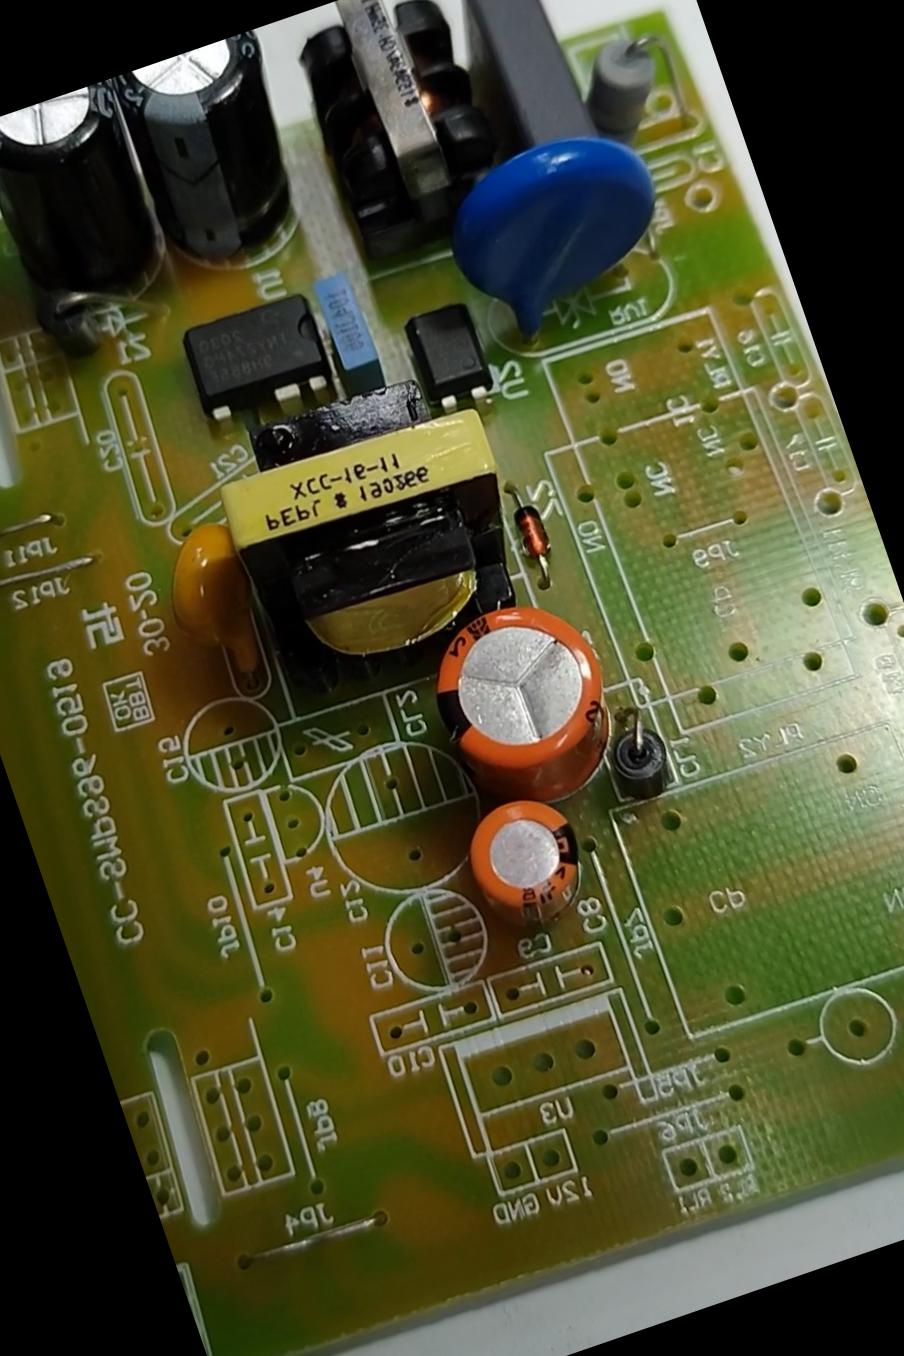Cap1: (394, 571, 650, 837)
Cap2: (436, 775, 620, 965)
Cap3: (98, 27, 339, 305)
Cap4: (0, 75, 204, 365)
MOSFET: (160, 276, 354, 451)
Mov: (402, 97, 709, 391)
Resistor: (555, 7, 695, 167)
Transformer: (194, 390, 576, 749), (281, 0, 539, 284)
